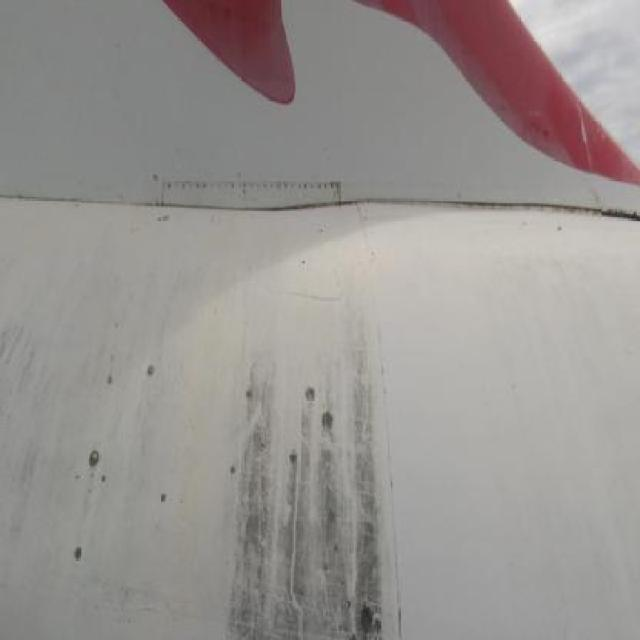Missing-Rivet: (158, 170, 353, 224)
Rust: (0, 200, 228, 635), (228, 234, 406, 640), (500, 189, 640, 254)
